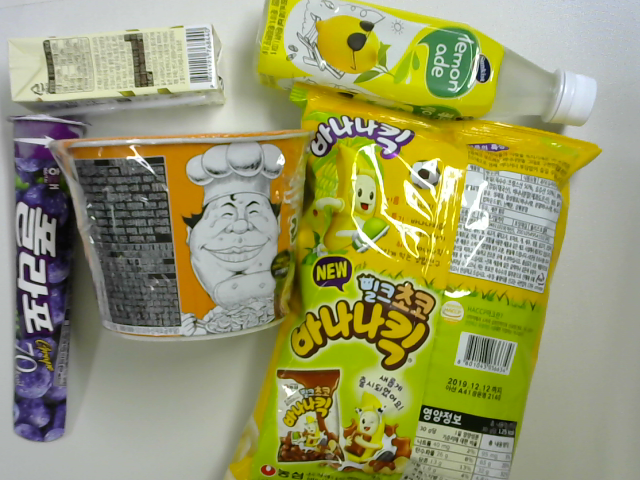99.89_Soymilk: (5, 26, 225, 112)
Banana_Kick: (231, 84, 602, 480)
Hejangchan: (49, 124, 313, 342)
Polapo_Grape: (13, 116, 83, 452)
Sunkist_Lemonaid_Pet: (257, 4, 601, 138)
